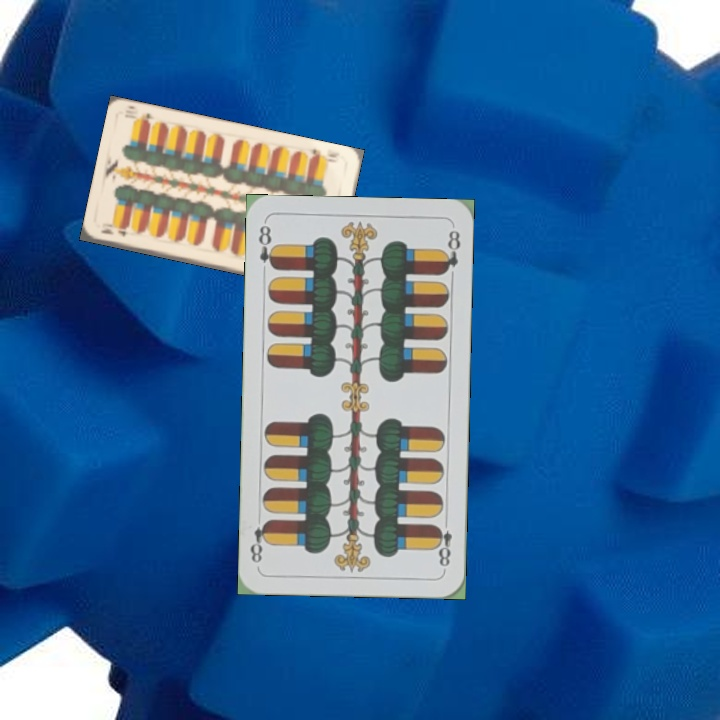E10: (306, 145, 342, 165), (97, 223, 130, 239)
E8: (431, 514, 454, 573), (254, 221, 279, 273)
